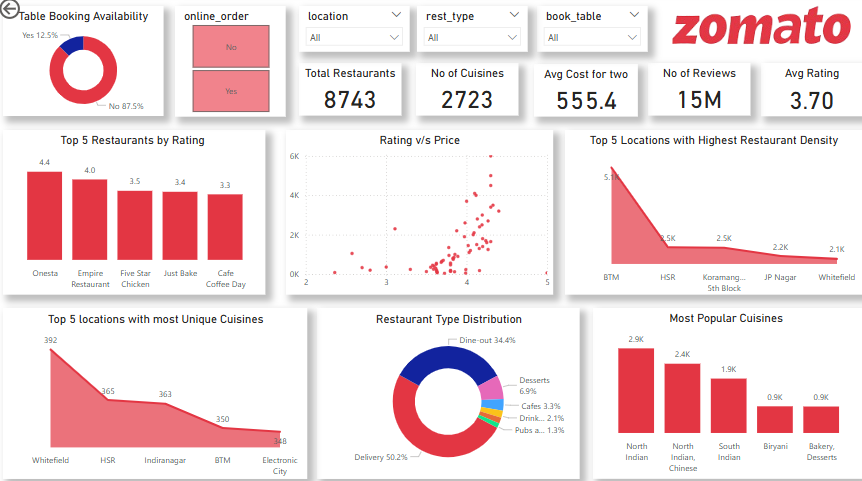

This screenshot's page, from the dashboard's own definition file:
{"tool":"powerbi","page":{"name":"Page 1","canvas":[1280,720],"ordinal":0},"visuals":[{"type":"card","title":"Avg Rating","fields":{"Values":["Avg(zomato.rate)"]},"box":[1119.5,99.5,149.3,77.6],"z":0},{"type":"card","title":"Total Restaurants","fields":{"Values":["Count(zomato.name)"]},"box":[443.5,99.7,150,77.4],"z":1000},{"type":"card","title":"No of Reviews","fields":{"Values":["Sum(zomato.votes)"]},"box":[954,99.7,150.3,77.4],"z":2000},{"type":"card","title":"No of Cuisines","fields":{"Values":["Count(zomato.cuisines)"]},"box":[614.7,99.7,150.3,77.4],"z":3000},{"type":"card","title":"Avg Cost for two","fields":{"Values":["Avg(zomato.approx_cost(for two people))"]},"box":[787.3,101.2,152,77.4],"z":4000},{"type":"donutChart","title":"Table Booking Availability","fields":{"Y":["CountNonNull(zomato.name)"],"Category":["zomato.book_table"]},"box":[10.4,16.4,235.2,160.7],"z":5000},{"type":"scatterChart","title":"Rating v/s Price","fields":{"X":["Avg(zomato.rate)"],"Y":["zomato.approx_cost(for two people)"]},"box":[424.2,198,391.4,241.1],"z":6000},{"type":"areaChart","title":"Top 5 Locations with Highest Restaurant Density","fields":{"Category":["zomato.location"],"Y":["CountNonNull(zomato.name)"]},"box":[832,198,436.1,241.1],"z":7000},{"type":"clusteredColumnChart","title":"Most Popular Cuisines","fields":{"Category":["zomato.cuisines"],"Y":["CountNonNull(zomato.cuisines)"]},"box":[873.7,458.4,394.4,250],"z":8000},{"type":"donutChart","title":"Restaurant Type Distribution","fields":{"Category":["zomato.listed_in(type)"],"Y":["CountNonNull(zomato.name)"]},"box":[470.3,458.4,384,250],"z":9000},{"type":"actionButton","box":[0,0,100,40],"z":10000},{"type":"clusteredColumnChart","title":"Top 5 Restaurants by Rating","fields":{"Category":["zomato.name"],"Y":["Avg(zomato.rate)"]},"box":[10.4,198,384,241.1],"z":11000},{"type":"areaChart","title":"Top 5 locations with most Unique Cuisines","fields":{"Category":["zomato.location"],"Y":["Count(zomato.cuisines)"]},"box":[10.4,458.4,445,250],"z":12000},{"type":"image","box":[984.9,2.9,270.7,86.3],"z":13000},{"type":"slicer","fields":{"Values":["zomato.book_table"]},"box":[791.8,16.4,162.2,67],"z":14000},{"type":"slicer","fields":{"Values":["zomato.location"]},"box":[443.5,16.4,162.2,67],"z":15000},{"type":"slicer","fields":{"Values":["zomato.rest_type"]},"box":[616.2,16.4,162.2,67],"z":16000},{"type":"slicer","fields":{"Values":["zomato.online_order"]},"box":[262,16.4,162.2,162.2],"z":17000}]}

Visuals, with their boxes in screenshot pixels (x1, y1, x2, y2), scaled from the page's 1280x720 canvas onto the 862x481 screenshot:
"Avg Rating" card: x1=754, y1=66, x2=854, y2=118
"Total Restaurants" card: x1=299, y1=67, x2=400, y2=118
"No of Reviews" card: x1=642, y1=67, x2=744, y2=118
"No of Cuisines" card: x1=414, y1=67, x2=515, y2=118
"Avg Cost for two" card: x1=530, y1=68, x2=633, y2=119
"Table Booking Availability" donutChart: x1=7, y1=11, x2=165, y2=118
"Rating v/s Price" scatterChart: x1=286, y1=132, x2=549, y2=293
"Top 5 Locations with Highest Restaurant Density" areaChart: x1=560, y1=132, x2=854, y2=293
"Most Popular Cuisines" clusteredColumnChart: x1=588, y1=306, x2=854, y2=473
"Restaurant Type Distribution" donutChart: x1=317, y1=306, x2=575, y2=473
actionButton: x1=0, y1=0, x2=67, y2=27
"Top 5 Restaurants by Rating" clusteredColumnChart: x1=7, y1=132, x2=266, y2=293
"Top 5 locations with most Unique Cuisines" areaChart: x1=7, y1=306, x2=307, y2=473
image: x1=663, y1=2, x2=846, y2=60
slicer - zomato.book_table: x1=533, y1=11, x2=642, y2=56
slicer - zomato.location: x1=299, y1=11, x2=408, y2=56
slicer - zomato.rest_type: x1=415, y1=11, x2=524, y2=56
slicer - zomato.online_order: x1=176, y1=11, x2=286, y2=119
